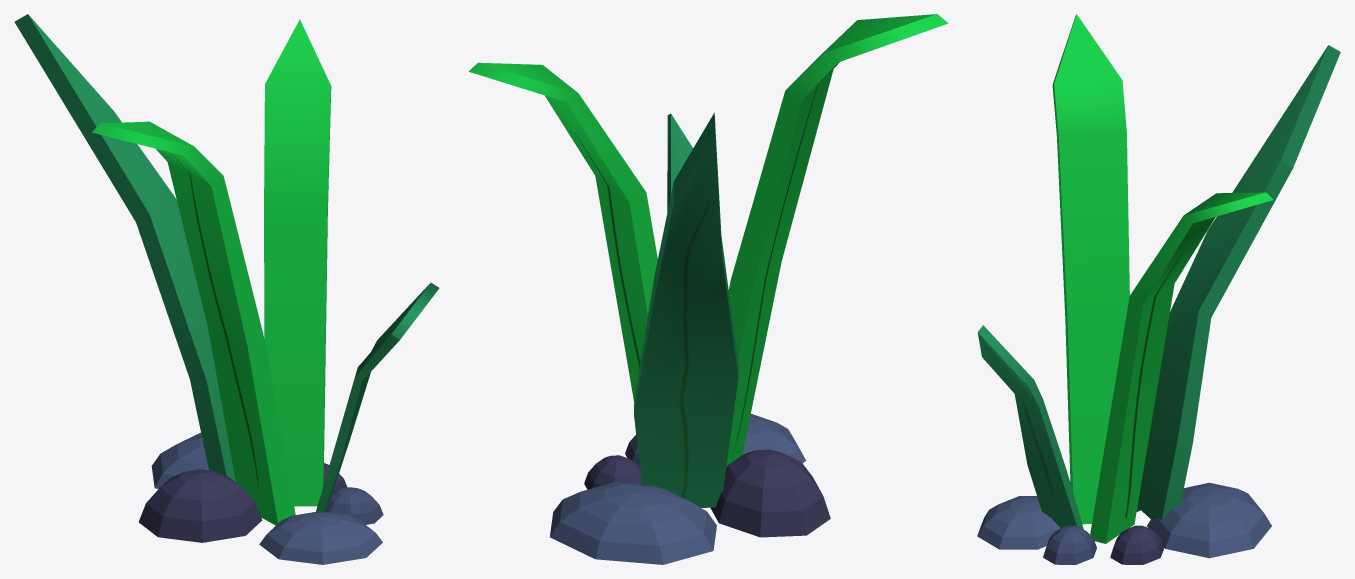
File: Mesh_grass_1.fbx
3 renders of one model, left to right at view 1: azimuth 30°, elevation 25°; view 2: azimuth 150°, elevation 25°; view 3: azimuth 270°, elevation 25°, orthographic. The views are drawn at different scales.
Parts seen in each view (by area): view 1: pSphere8; view 2: pSphere8; view 3: pSphere8.
Part boxes in pixels (x1,y1,x2,y2): pSphere8: (14, 14, 439, 564); pSphere8: (468, 14, 948, 564); pSphere8: (977, 14, 1340, 564).
Size of the model in its own units: 105 by 145 by 112.
1 material, 1 textured.
